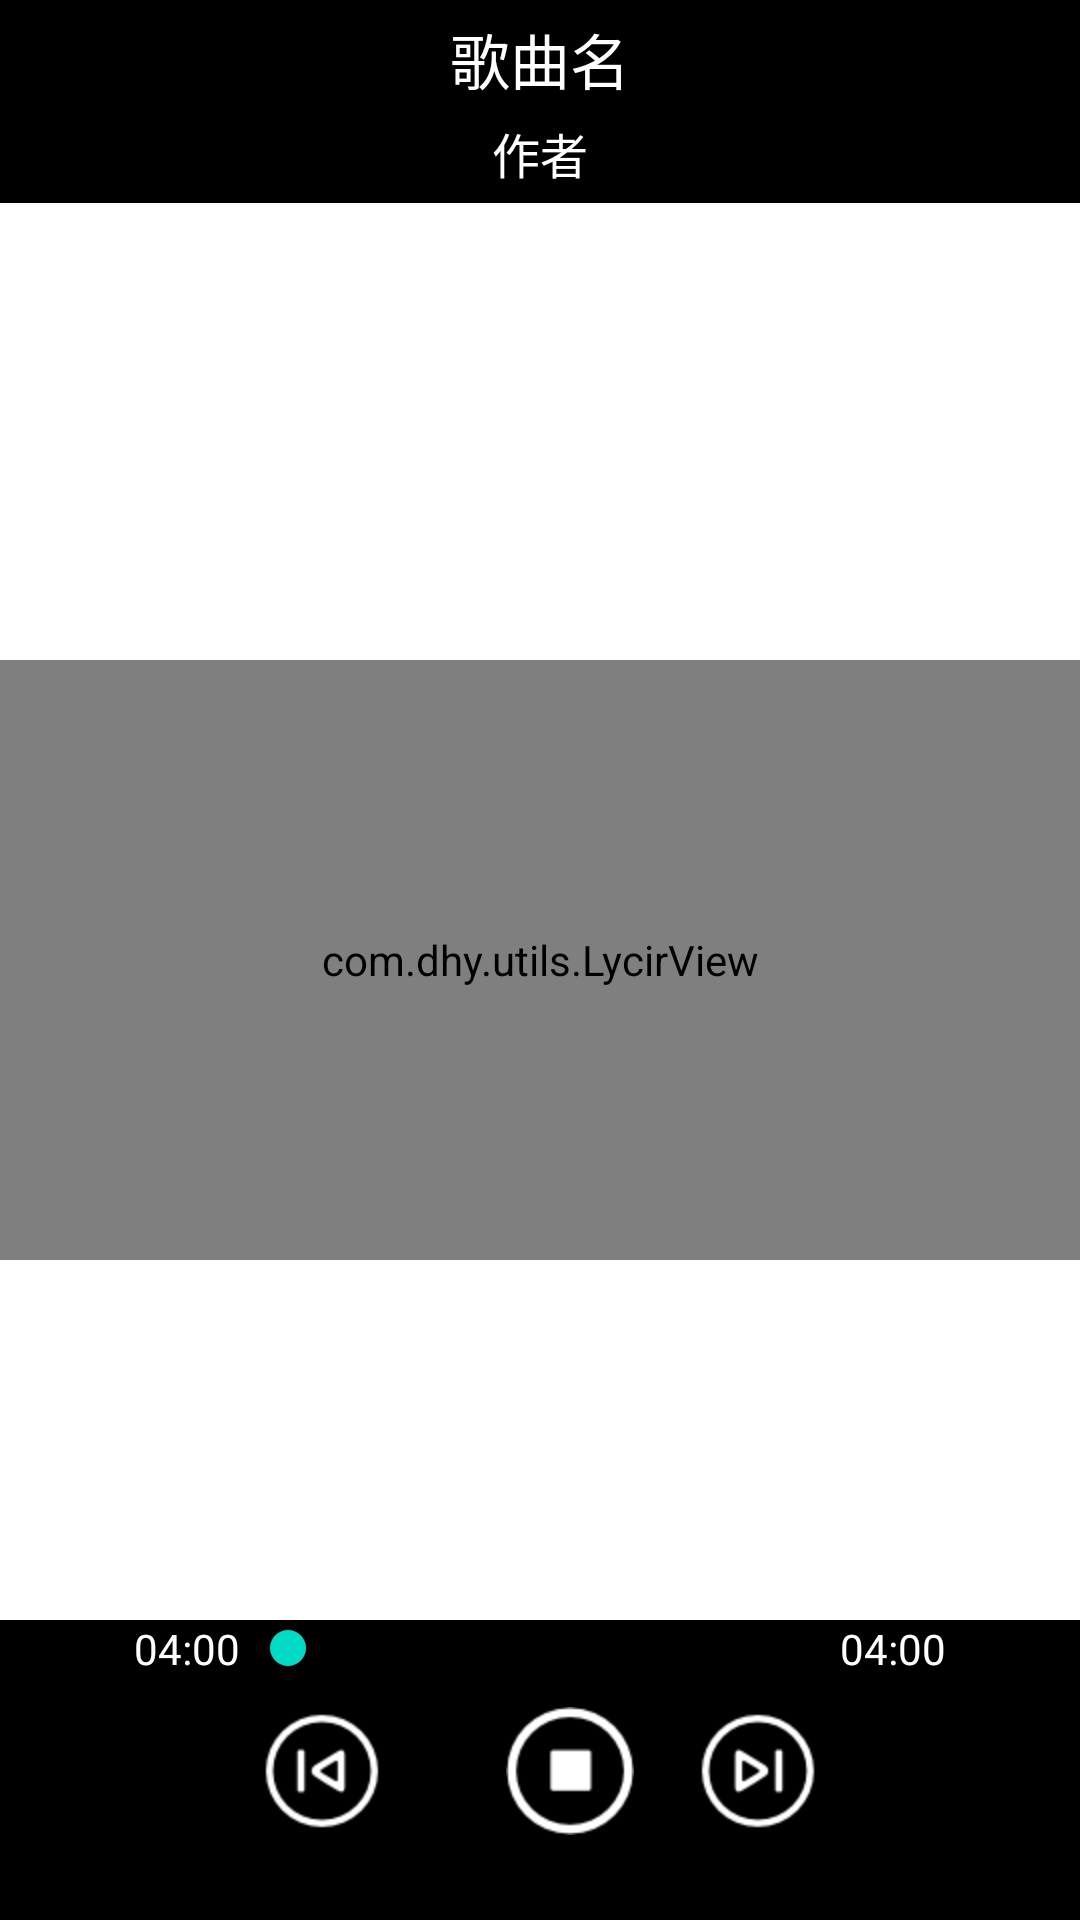

Screen size 1080x1920. Icon name, then its center in pixels as [x,y]:
next: [758,1771]
previous: [322,1771]
stop: [570,1771]
